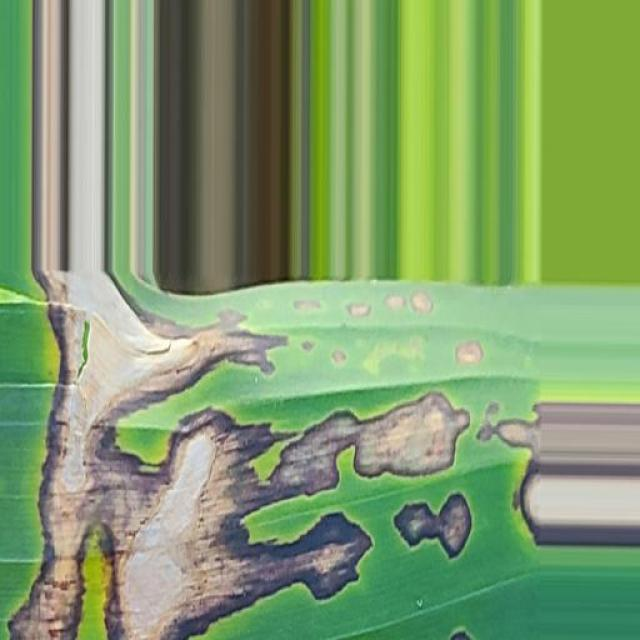Early_rust: (0, 244, 505, 640)
